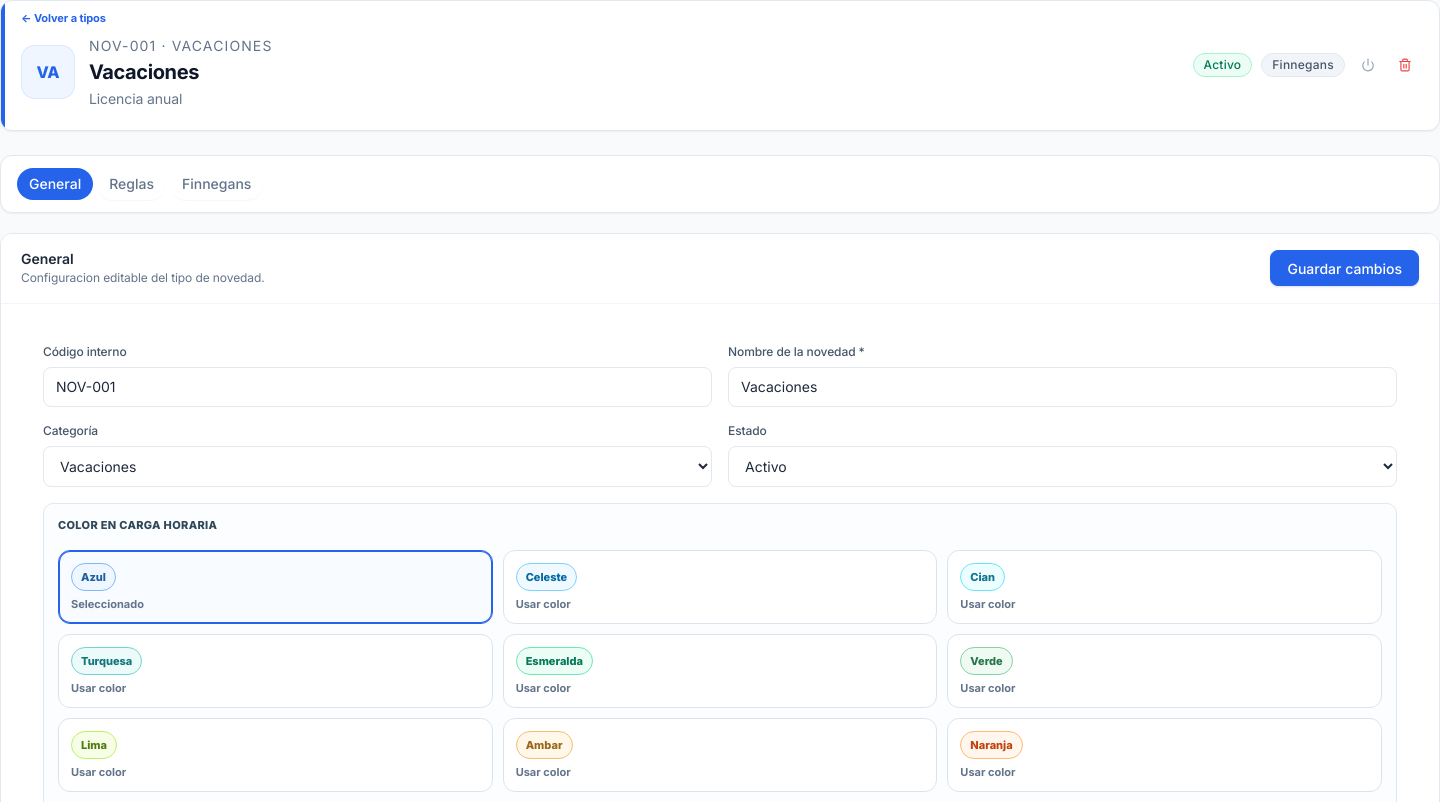
Test: NoveltyTypeDetailPage — Etapa 15L.2B › muestra el código/nombre Finnegans configurados en el tab Finnegans
This screenshot has width=1440, height=802.
Expected: the heading "Vacaciones" is shown, [89,60,199,84]
Click the button "Finnegans": (217, 184) [170,168,263,200]
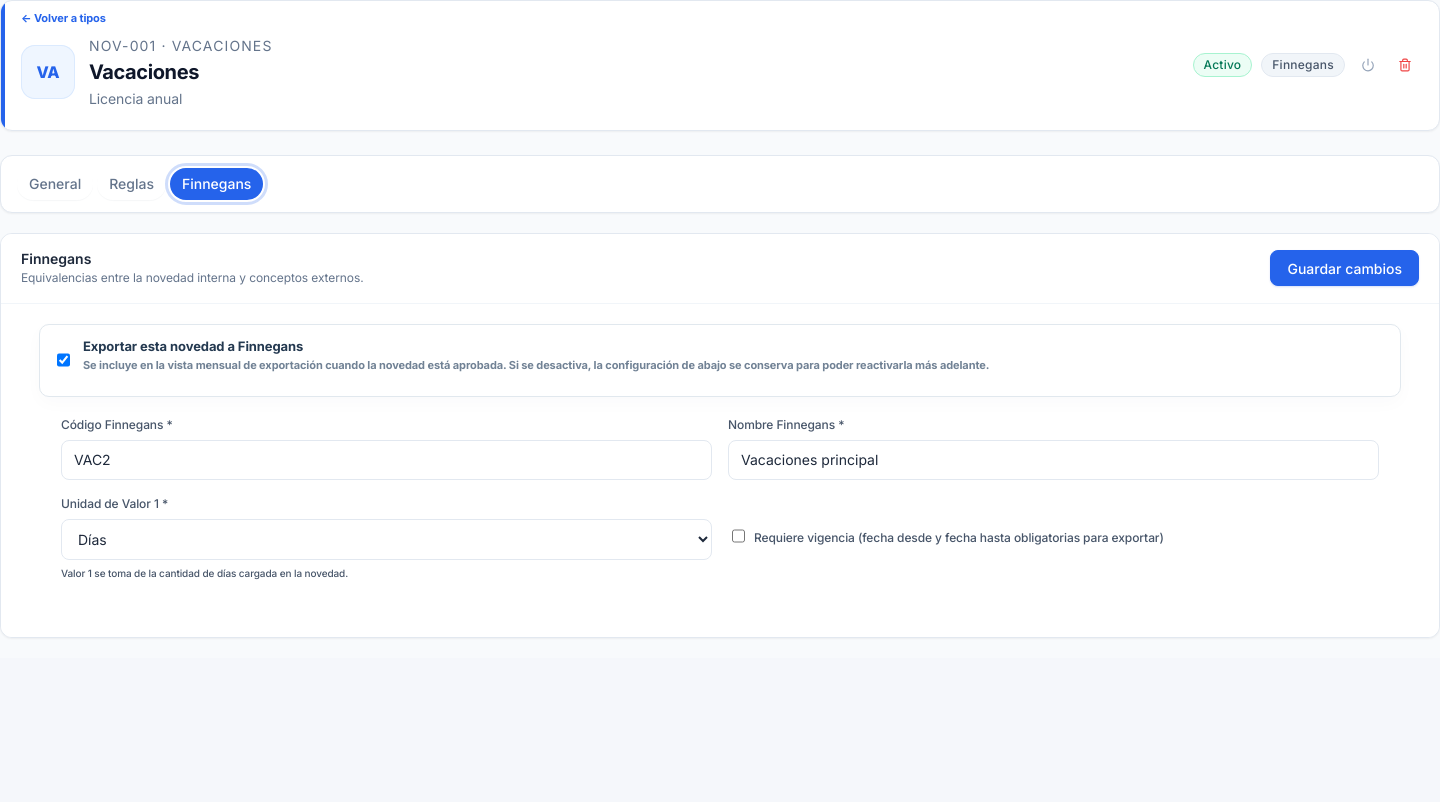
Expected: the field showing "VAC2" is shown, [61,440,712,480]
Expected: the field showing "Vacaciones principal" is shown, [728,440,1379,480]
